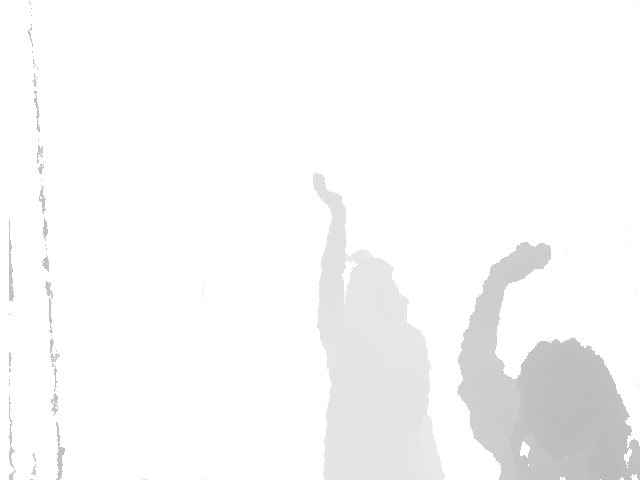hand: (485, 241, 553, 283), (312, 171, 345, 210)
head: (512, 341, 621, 454), (344, 251, 399, 314)
person: (456, 241, 640, 480), (312, 171, 448, 479)
